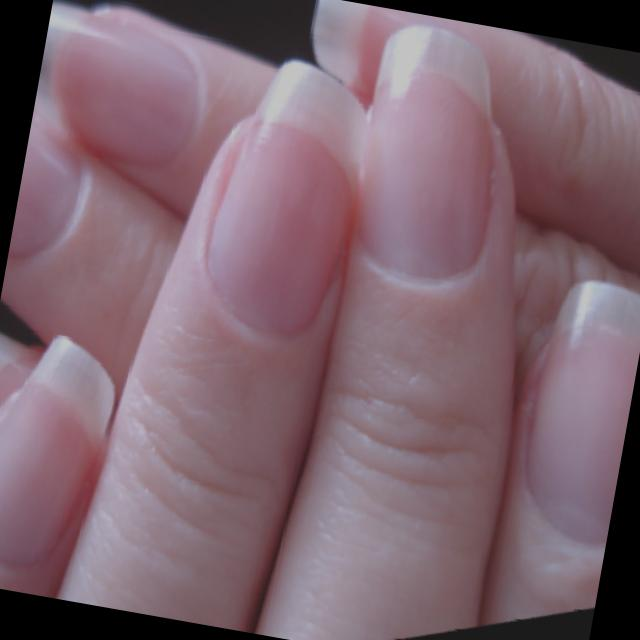Nail: (206, 61, 370, 334), (357, 26, 493, 278), (526, 279, 640, 542), (0, 338, 112, 565), (50, 22, 195, 164), (6, 110, 86, 257)
